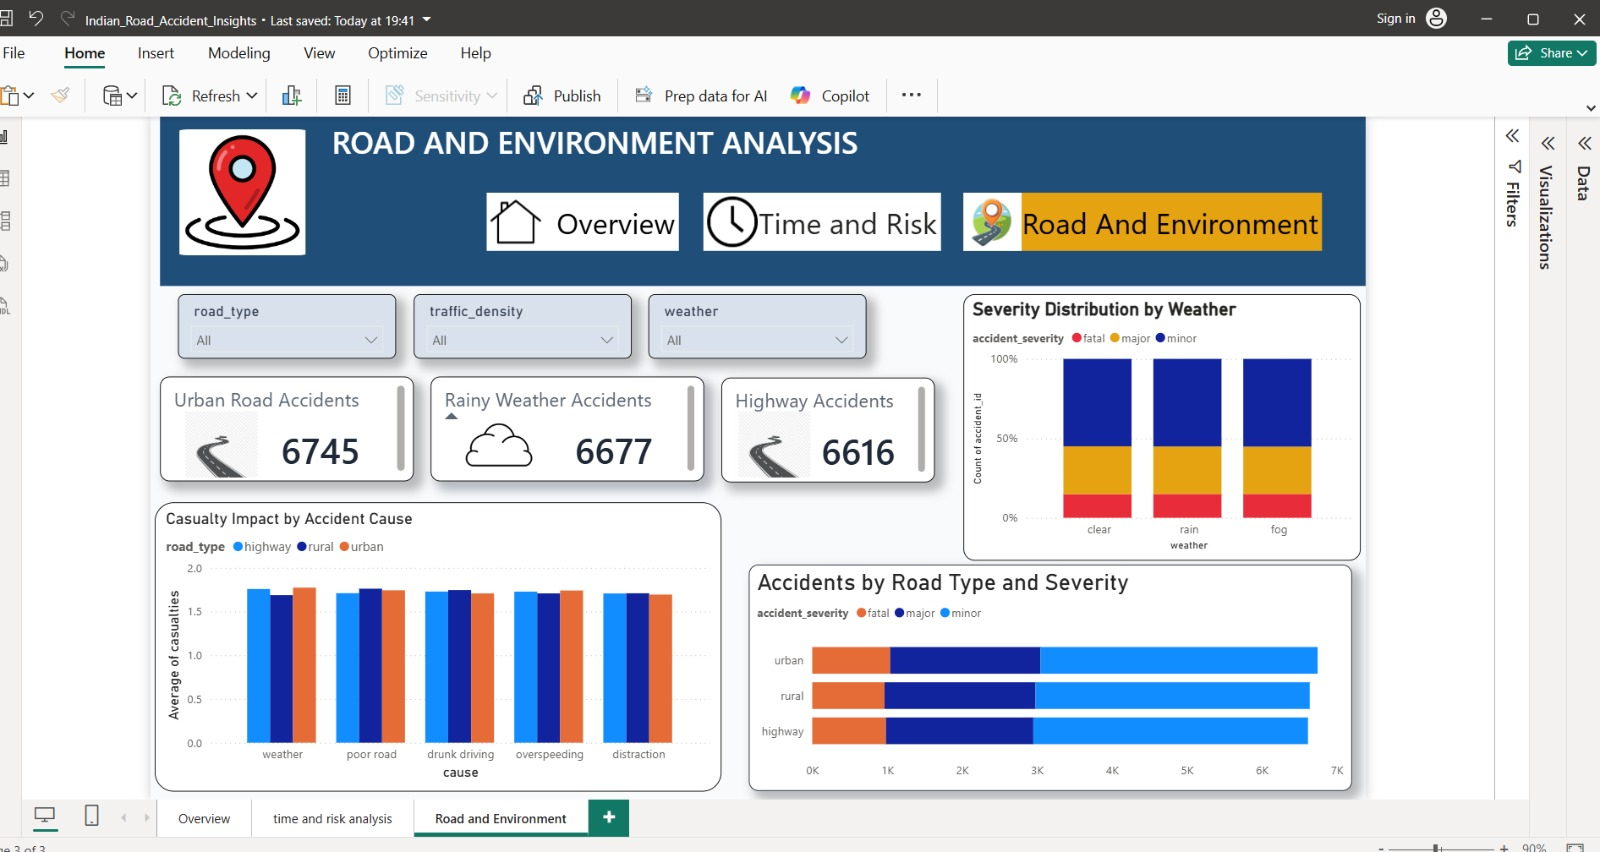

The dashboard page shown, as its layout file describes it:
{"tool":"powerbi","page":{"name":"Road and Environment ","canvas":[1280,720],"ordinal":2},"visuals":[{"type":"textbox","box":[10.2,0,1269.8,178.7],"z":0},{"type":"tableEx","fields":{"Values":["cleaned_indian_roads_dataset.Urban Road Accidents"]},"box":[10.2,274,267.2,110.6],"z":0,"group":"g2"},{"type":"tableEx","fields":{"Values":["cleaned_indian_roads_dataset.Highway Accidents"]},"box":[601.5,274.5,224.7,110.6],"z":0,"group":"g1"},{"type":"tableEx","fields":{"Values":["cleaned_indian_roads_dataset.Rainy Weather Accidents"]},"box":[294.5,274,287.7,110.6],"z":1000},{"type":"image","box":[0,13.6,194,132.8],"z":2000},{"type":"actionButton","box":[582.1,80,250.2,61.3],"z":3000},{"type":"actionButton","box":[354,80,202.6,61.3],"z":4000},{"type":"actionButton","box":[856.2,80,377.9,61.3],"z":5000},{"type":"slicer","fields":{"Values":["cleaned_indian_roads_dataset.traffic_density"]},"box":[277.4,187.2,229.8,68.1],"z":6000},{"type":"slicer","fields":{"Values":["cleaned_indian_roads_dataset.road_type"]},"box":[28.9,187.2,229.8,68.1],"z":7000},{"type":"slicer","fields":{"Values":["cleaned_indian_roads_dataset.weather"]},"box":[524.3,187.2,229.8,68.1],"z":8000},{"type":"group","id":"g1","title":"Group 1","box":[601.5,274.5,224.7,110.6],"z":9000},{"type":"group","id":"g2","title":"Group 1","box":[10.2,274,267.2,110.6],"z":10000},{"type":"barChart","title":"Accidents by Road Type and Severity","fields":{"Series":["cleaned_indian_roads_dataset.accident_severity"],"Y":["CountNonNull(cleaned_indian_roads_dataset.accident_id)"],"Category":["cleaned_indian_roads_dataset.road_type"]},"box":[629.8,472,635.3,238.8],"z":11000},{"type":"clusteredColumnChart","title":" Casualty Impact  by Accident Cause","fields":{"Category":["cleaned_indian_roads_dataset.cause"],"Y":["Avg(cleaned_indian_roads_dataset.casualties)"],"Series":["cleaned_indian_roads_dataset.road_type"]},"box":[4.1,406.2,596.9,304.6],"z":12000},{"type":"hundredPercentStackedColumnChart","title":"Severity Distribution by Weather","fields":{"Category":["cleaned_indian_roads_dataset.weather"],"Series":["cleaned_indian_roads_dataset.accident_severity"],"Y":["CountNonNull(cleaned_indian_roads_dataset.accident_id)"]},"box":[856.2,187.2,418.7,280.9],"z":13000},{"type":"image","box":[295,310.6,143.6,70.1],"z":14000},{"type":"image","box":[0,310.1,149.6,70],"z":15000},{"type":"image","box":[581.8,310.1,149.6,70],"z":16000}]}

Visuals, with their boxes on the page's 1280x720 design canvas (x1, y1, x2, y2). These are canvas units, not pixel positions in the 1600x852 screenshot, which may show the page scaled, cropped or inside an application window:
textbox: 10, 0, 1280, 179
tableEx - cleaned_indian_roads_dataset.Urban Road Accidents: 10, 274, 277, 385
tableEx - cleaned_indian_roads_dataset.Highway Accidents: 602, 274, 826, 385
tableEx - cleaned_indian_roads_dataset.Rainy Weather Accidents: 294, 274, 582, 385
image: 0, 14, 194, 146
actionButton: 582, 80, 832, 141
actionButton: 354, 80, 557, 141
actionButton: 856, 80, 1234, 141
slicer - cleaned_indian_roads_dataset.traffic_density: 277, 187, 507, 255
slicer - cleaned_indian_roads_dataset.road_type: 29, 187, 259, 255
slicer - cleaned_indian_roads_dataset.weather: 524, 187, 754, 255
"Group 1" group: 602, 274, 826, 385
"Group 1" group: 10, 274, 277, 385
"Accidents by Road Type and Severity" barChart: 630, 472, 1265, 711
" Casualty Impact  by Accident Cause" clusteredColumnChart: 4, 406, 601, 711
"Severity Distribution by Weather" hundredPercentStackedColumnChart: 856, 187, 1275, 468
image: 295, 311, 439, 381
image: 0, 310, 150, 380
image: 582, 310, 731, 380
